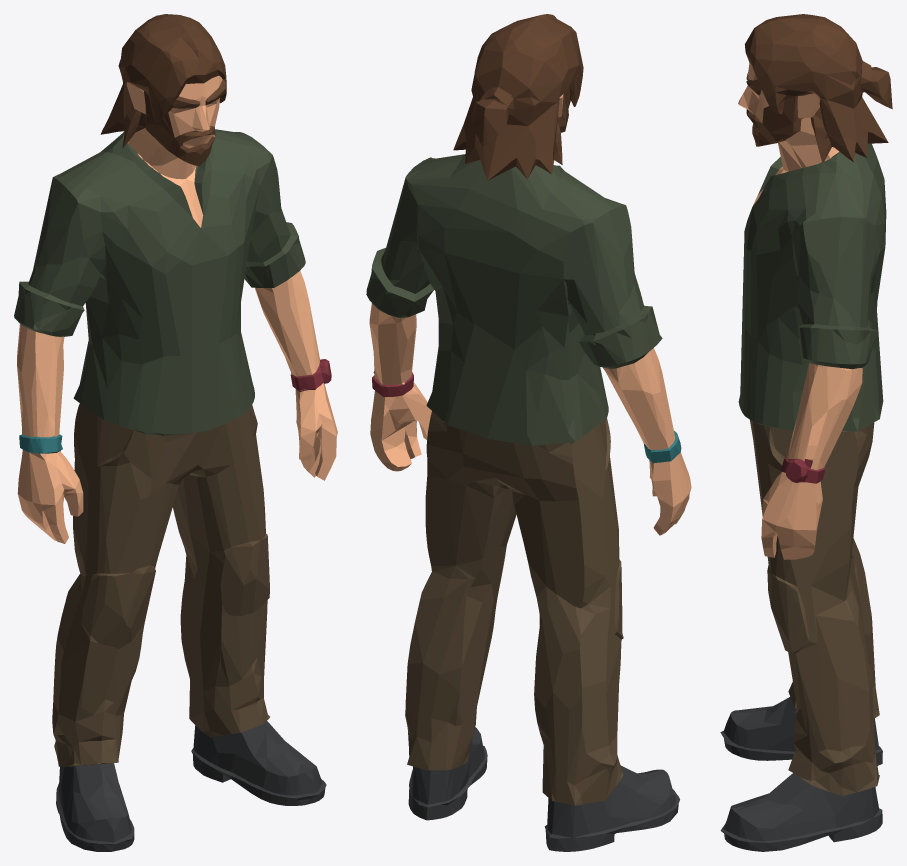
Rendered from Almost_Texture_TestV006.fbx.
3 renders of one model, left to right at view 1: azimuth 30°, elevation 25°; view 2: azimuth 150°, elevation 25°; view 3: azimuth 270°, elevation 25°, orthographic.
Visible parts, largest first — view 1: Body; view 2: Body; view 3: Body.
Part boxes in pixels (x1=…): Body: x1=14, y1=14, x2=337, y2=851; Body: x1=366, y1=14, x2=691, y2=851; Body: x1=720, y1=14, x2=892, y2=851.
Size of the model in its own units: 77.3 by 188 by 37.88.
